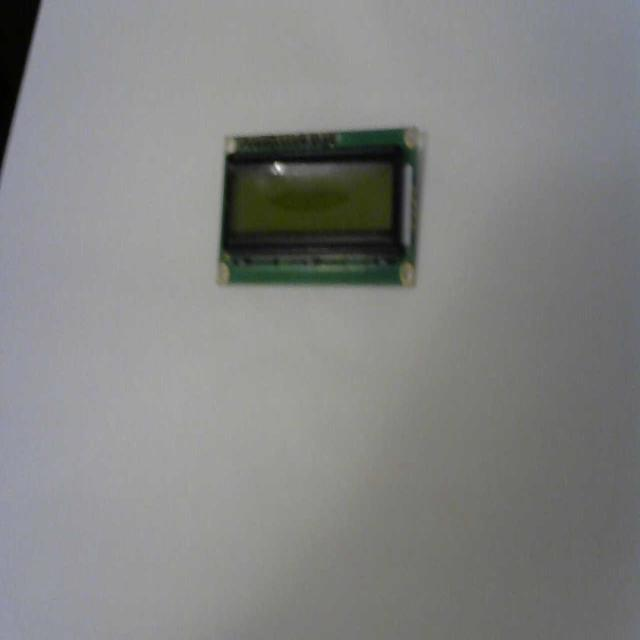lcd: (215, 124, 423, 288)
